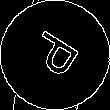P_SE: (24, 26, 86, 84)
